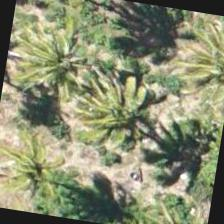Kelapa_Sawit: (65, 63, 168, 166), (6, 15, 109, 118), (0, 113, 87, 217), (177, 15, 223, 113)
